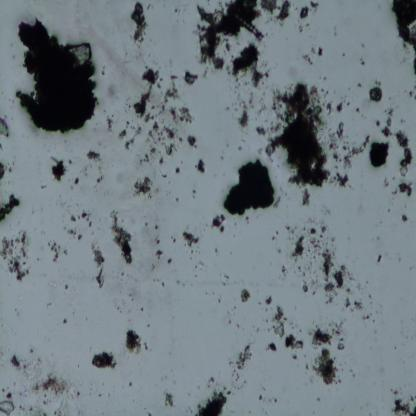Background material: (7, 13, 103, 136), (265, 81, 332, 186), (194, 0, 266, 73), (0, 227, 32, 282), (231, 42, 267, 88), (107, 210, 133, 266), (132, 67, 160, 118), (389, 0, 415, 50), (312, 348, 340, 388), (149, 120, 180, 156), (340, 132, 370, 168), (128, 0, 150, 46), (396, 128, 414, 178), (65, 206, 93, 238), (194, 391, 226, 416), (41, 376, 76, 398), (368, 139, 392, 170), (90, 242, 106, 288), (46, 237, 71, 264), (306, 324, 333, 348), (320, 246, 338, 282), (0, 193, 23, 221), (20, 356, 42, 385), (161, 72, 178, 105), (131, 174, 153, 198), (92, 350, 118, 370), (123, 123, 142, 150), (393, 394, 416, 416), (235, 343, 253, 370), (50, 154, 66, 182), (125, 329, 142, 355), (180, 227, 202, 247), (236, 97, 250, 128), (330, 172, 353, 190), (273, 305, 285, 339), (275, 0, 290, 27), (368, 78, 383, 104), (333, 264, 347, 290), (259, 0, 279, 18), (0, 114, 12, 144), (176, 104, 193, 125), (210, 210, 226, 232), (291, 235, 304, 262), (104, 82, 121, 102), (286, 334, 304, 352), (324, 283, 338, 306), (54, 400, 74, 416), (301, 214, 325, 227), (330, 318, 346, 336), (183, 68, 199, 86), (0, 398, 15, 416), (399, 179, 414, 197), (308, 238, 322, 257), (162, 388, 175, 408), (248, 90, 259, 112), (383, 107, 395, 127), (0, 160, 13, 178), (92, 166, 104, 184), (326, 132, 338, 150), (186, 132, 198, 150), (9, 353, 21, 371), (300, 186, 310, 207), (301, 49, 314, 65), (239, 286, 250, 304), (86, 151, 102, 163), (197, 156, 206, 175), (106, 112, 115, 130), (32, 399, 41, 416), (0, 342, 6, 367), (300, 5, 309, 21), (381, 126, 393, 138), (310, 277, 321, 290), (152, 248, 164, 259), (32, 381, 41, 395), (353, 300, 364, 311), (331, 152, 342, 163), (286, 225, 298, 235), (194, 259, 204, 271), (309, 0, 319, 12), (116, 128, 128, 138), (338, 337, 346, 351), (336, 122, 343, 138), (346, 270, 355, 282), (325, 101, 332, 116), (72, 173, 80, 186), (316, 45, 324, 58), (362, 312, 372, 322), (266, 342, 276, 352), (232, 368, 239, 382), (383, 176, 390, 190), (206, 376, 214, 388), (358, 54, 366, 66), (302, 280, 310, 292), (223, 272, 229, 287), (298, 24, 306, 35), (390, 187, 398, 198), (280, 265, 288, 276), (357, 282, 364, 294), (41, 396, 51, 404), (268, 396, 278, 404), (336, 103, 344, 113), (215, 380, 223, 390), (412, 55, 416, 75), (264, 296, 272, 306), (228, 357, 235, 368), (258, 394, 266, 403), (304, 362, 310, 374), (344, 286, 353, 294), (186, 404, 193, 414), (166, 254, 173, 264), (345, 297, 351, 308), (262, 126, 268, 137), (291, 353, 299, 361), (173, 166, 180, 175), (309, 374, 315, 384), (320, 224, 326, 234), (155, 233, 161, 243), (216, 296, 222, 306), (306, 260, 312, 270), (310, 228, 317, 236), (192, 188, 197, 199), (368, 294, 373, 305), (324, 205, 330, 214), (142, 341, 147, 351), (158, 156, 163, 166), (23, 390, 30, 397), (174, 196, 180, 204), (160, 280, 166, 288), (402, 214, 408, 222), (324, 90, 330, 98), (62, 316, 68, 324), (28, 405, 34, 413), (6, 392, 12, 400), (289, 321, 294, 330), (377, 254, 382, 263), (334, 25, 338, 36), (329, 236, 336, 242), (232, 385, 240, 390), (64, 282, 69, 290), (411, 394, 416, 402), (310, 290, 316, 296), (358, 82, 364, 88), (172, 379, 178, 385), (18, 404, 24, 410), (312, 255, 317, 262), (399, 119, 406, 124), (376, 120, 381, 127), (76, 390, 81, 397), (408, 91, 413, 98), (271, 234, 276, 241), (297, 266, 302, 273), (314, 397, 320, 402), (98, 392, 103, 398), (240, 384, 245, 390), (404, 335, 409, 341), (41, 411, 47, 416), (350, 307, 354, 314), (256, 326, 260, 333), (340, 52, 345, 57), (128, 382, 133, 387), (393, 390, 398, 395), (356, 106, 360, 112), (346, 100, 350, 106), (226, 391, 232, 395), (303, 270, 306, 278), (30, 348, 34, 354), (349, 368, 353, 374), (332, 166, 338, 170), (140, 306, 144, 312), (148, 410, 152, 416), (352, 373, 356, 378), (224, 385, 228, 390), (262, 386, 266, 391), (338, 378, 342, 383), (334, 379, 338, 384), (275, 230, 279, 235), (318, 233, 322, 238), (322, 76, 327, 80), (214, 247, 218, 252), (366, 279, 370, 284), (187, 391, 190, 397), (341, 306, 344, 312), (413, 84, 416, 90), (393, 344, 396, 350), (376, 237, 380, 241), (284, 316, 288, 320), (132, 398, 136, 402), (266, 320, 270, 324), (258, 301, 262, 305), (302, 227, 306, 231), (19, 393, 23, 397), (277, 249, 282, 252), (1, 389, 6, 392), (265, 411, 268, 416), (388, 208, 391, 213), (413, 94, 416, 99), (77, 364, 80, 369), (268, 327, 271, 332), (368, 412, 371, 416), (249, 410, 252, 414), (13, 382, 16, 386), (147, 324, 150, 328), (321, 88, 324, 92), (314, 270, 317, 274), (373, 319, 375, 324), (300, 328, 302, 333), (244, 380, 247, 383), (312, 411, 315, 414), (304, 355, 307, 358), (144, 406, 146, 410), (399, 258, 401, 262), (391, 388, 393, 392), (108, 394, 110, 396)
Fragment: (223, 158, 274, 219)
